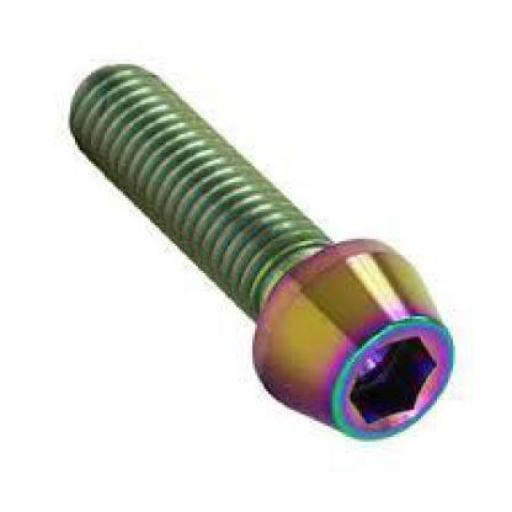Bolt: (68, 63, 456, 442)
